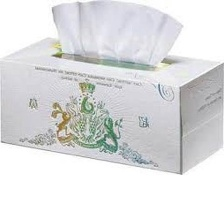book: (0, 34, 224, 176)
tissue: (48, 0, 186, 69)
